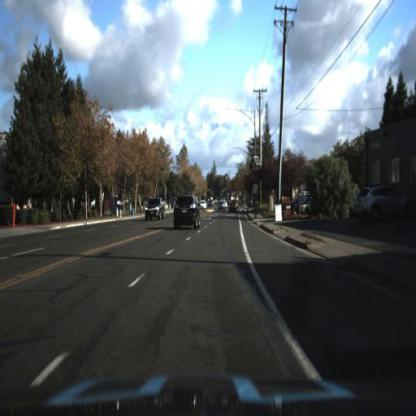car: (348, 181, 406, 225), (172, 188, 206, 235), (144, 192, 167, 228), (228, 202, 240, 218), (228, 201, 239, 215), (198, 200, 209, 212)
